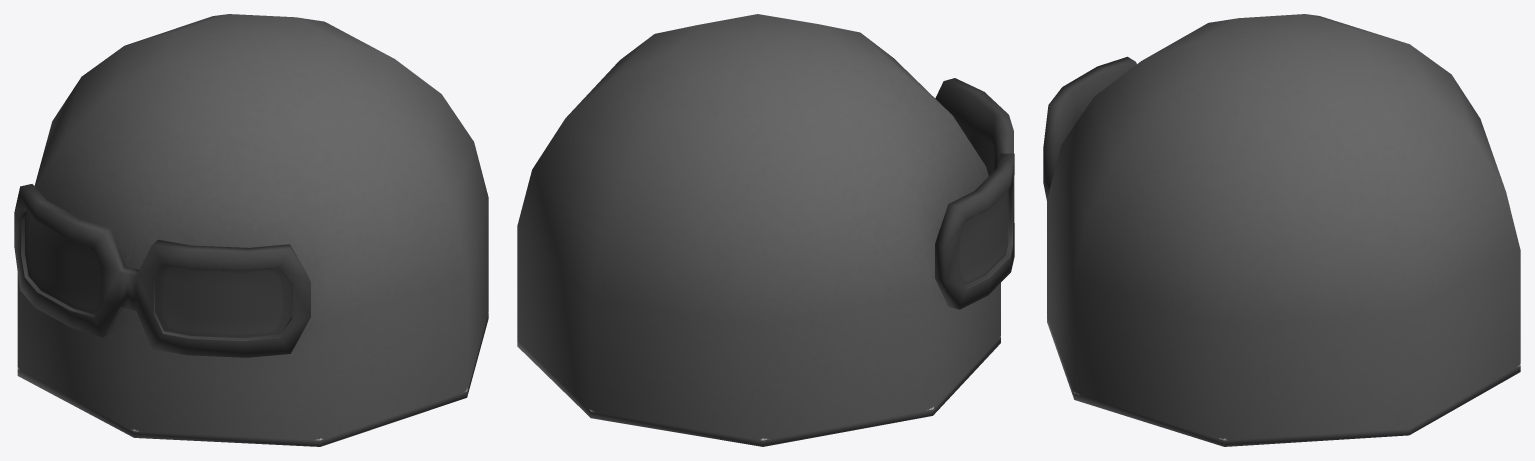
The model's file is Android_head_gray.dae.
The picture shows the model from 3 angles, left to right: view 1: azimuth 30°, elevation 25°; view 2: azimuth 150°, elevation 25°; view 3: azimuth 270°, elevation 25°; orthographic projection.
Parts seen in each view (by area): view 1: Head, Glasses; view 2: Head, Glasses; view 3: Head, Glasses.
Boxes of the visible parts, bbox=[...] form: Head: bbox=[17, 14, 488, 446]; Glasses: bbox=[14, 184, 310, 357]; Head: bbox=[517, 14, 1000, 446]; Glasses: bbox=[935, 78, 1014, 309]; Head: bbox=[1047, 14, 1520, 446]; Glasses: bbox=[1043, 56, 1136, 200].
Size of the model in its own units: 2.03 by 1.95 by 1.38.
Materials: 3 (3 with a texture image).
